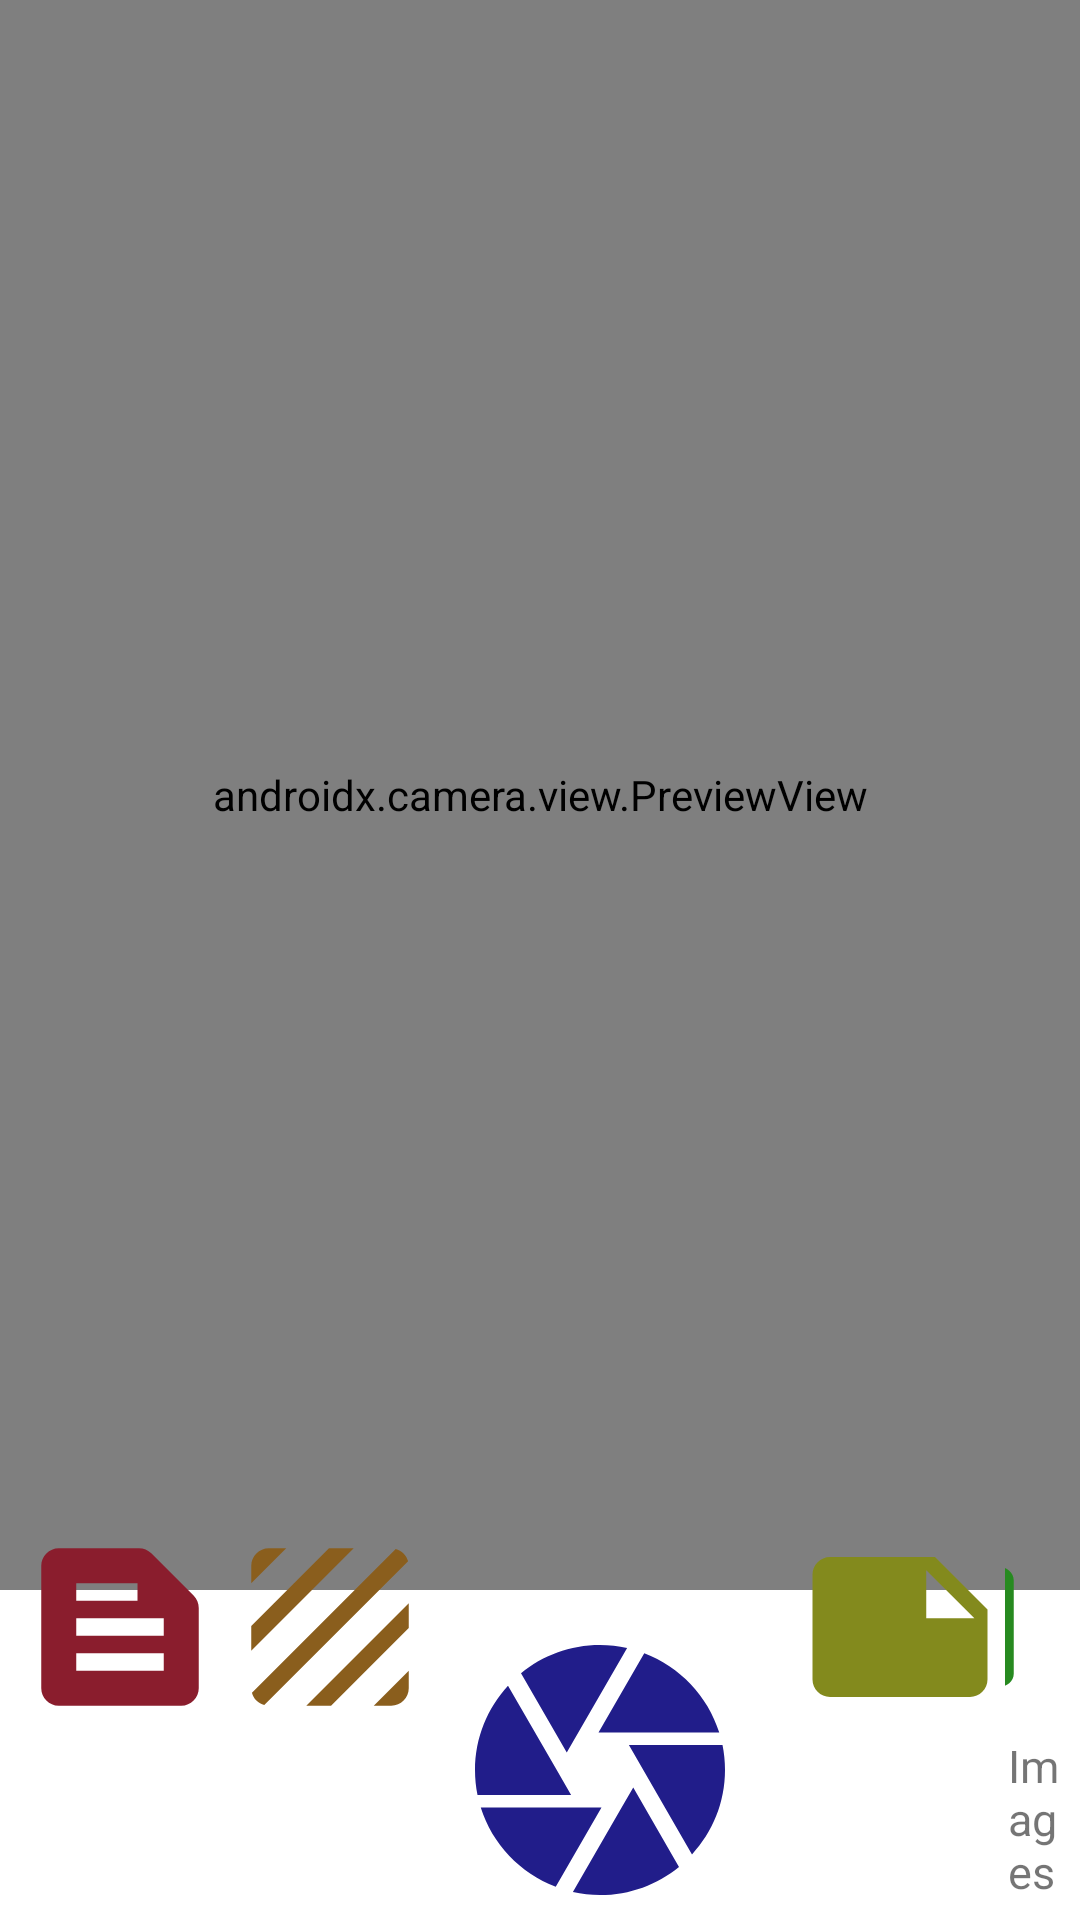

Screen size 1080x1920. Icon name, then its center in pixels as [x,y]:
texture: [330,1627]
